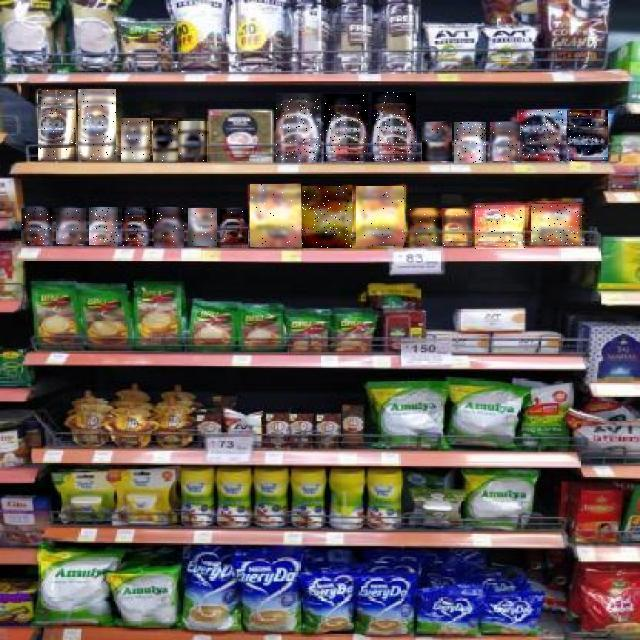Coffee: (250, 184, 301, 247), (303, 187, 353, 249), (373, 92, 417, 162), (276, 94, 321, 162), (324, 94, 368, 161), (356, 186, 404, 246), (79, 89, 117, 160), (38, 90, 76, 161), (520, 110, 566, 161), (476, 205, 528, 249), (532, 204, 584, 245), (567, 110, 608, 161), (454, 122, 486, 163), (121, 118, 150, 162), (154, 208, 184, 248), (410, 209, 441, 247), (422, 122, 452, 161), (491, 122, 521, 161), (179, 121, 207, 162), (90, 207, 120, 245), (122, 208, 152, 246), (443, 208, 473, 246), (188, 208, 217, 246), (23, 208, 53, 244), (57, 208, 87, 244), (220, 210, 248, 248), (153, 120, 178, 162)
